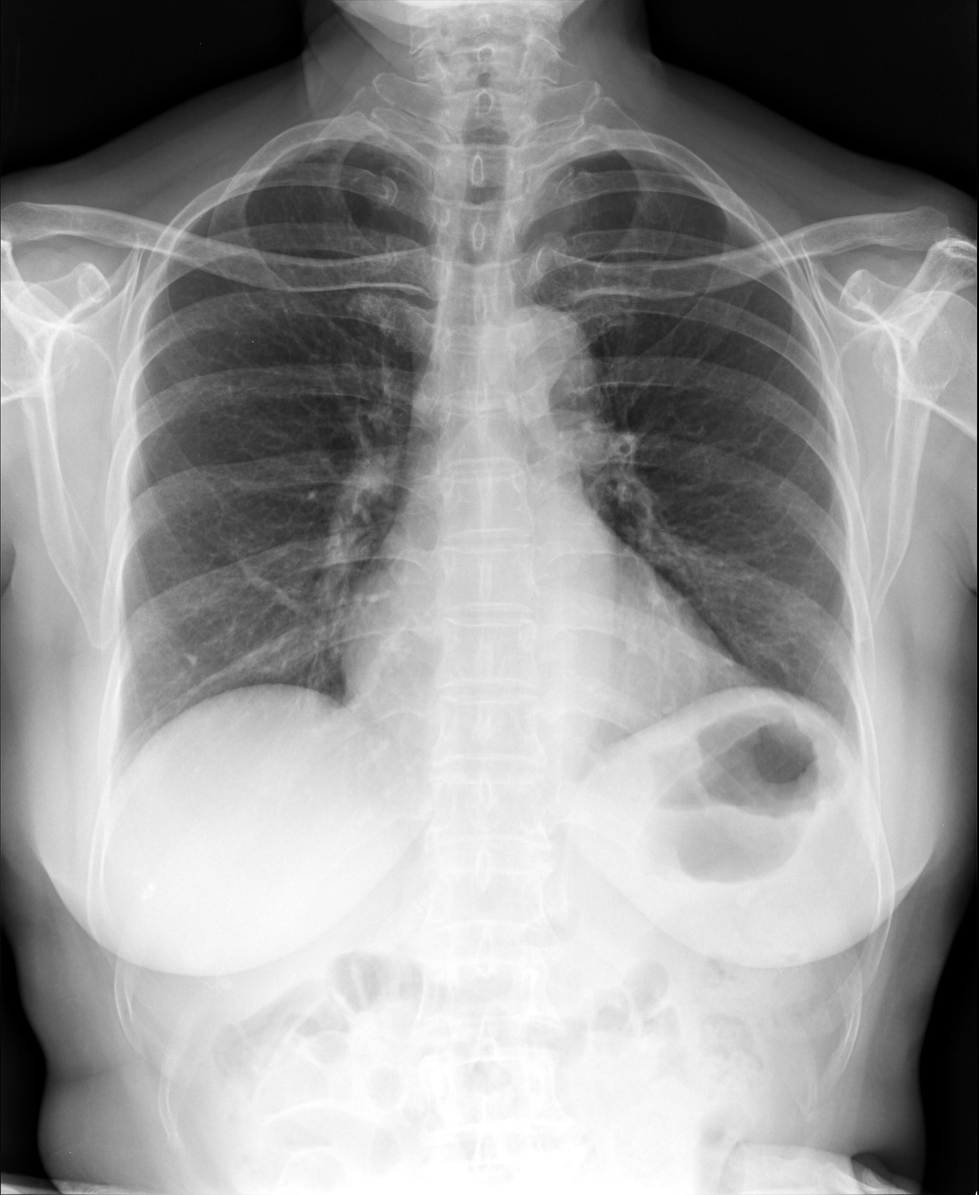Aortic enlargement: (498, 307, 608, 453)
